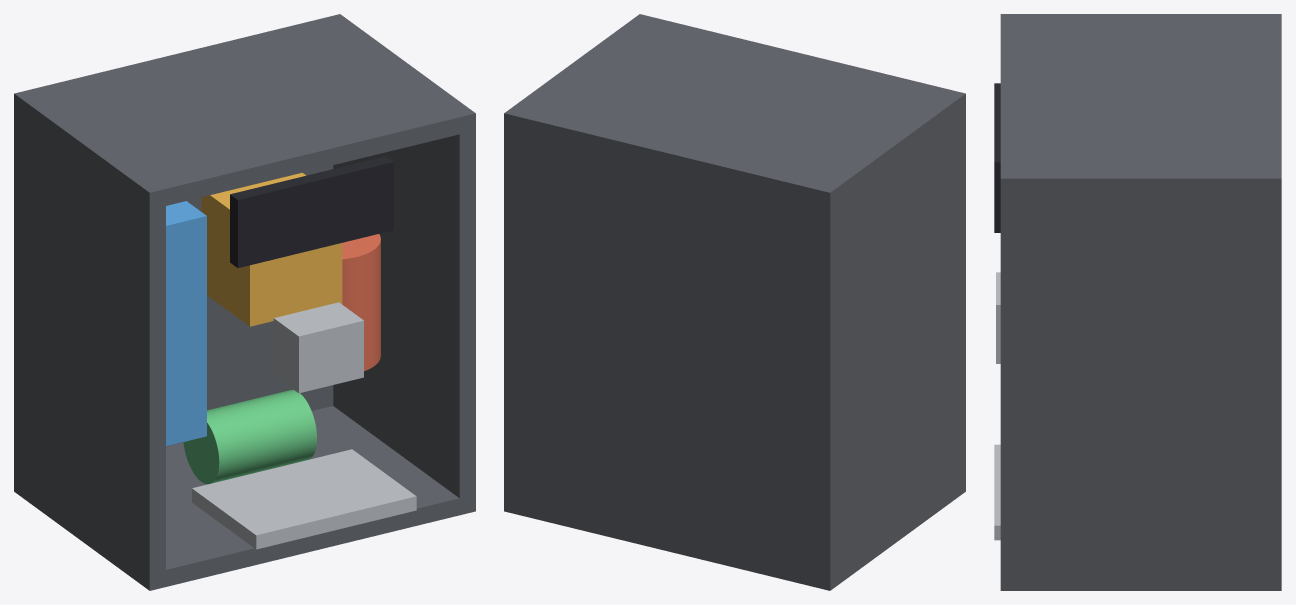
The model's file is coffee-machine.glb.
3 renders of one model, left to right at view 1: azimuth 30°, elevation 25°; view 2: azimuth 150°, elevation 25°; view 3: azimuth 270°, elevation 25°, orthographic. The views are drawn at different scales.
Parts seen in each view (by area): view 1: body, cup-tray, control-panel, water-tank, brewing-unit, pump, outlet, heater; view 2: body; view 3: body, control-panel, cup-tray, outlet.
Part boxes in pixels (x1,y1,x2,y2): body: (14, 14, 475, 590); cup-tray: (192, 449, 416, 549); control-panel: (230, 156, 393, 267); water-tank: (166, 201, 206, 446); brewing-unit: (201, 172, 342, 326); pump: (183, 390, 316, 484); outlet: (273, 302, 363, 393); heater: (342, 234, 380, 371); body: (504, 14, 965, 590); body: (1000, 14, 1281, 590); control-panel: (994, 83, 1000, 232); cup-tray: (994, 444, 1000, 540); outlet: (996, 272, 1000, 363).
Size of the model in its own units: 2.4 by 2.8 by 1.77.
